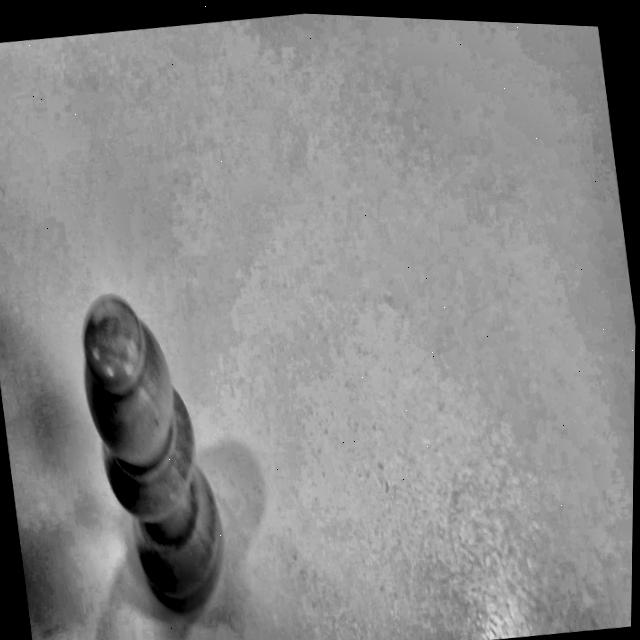white-bishop: (16, 207, 263, 640)
